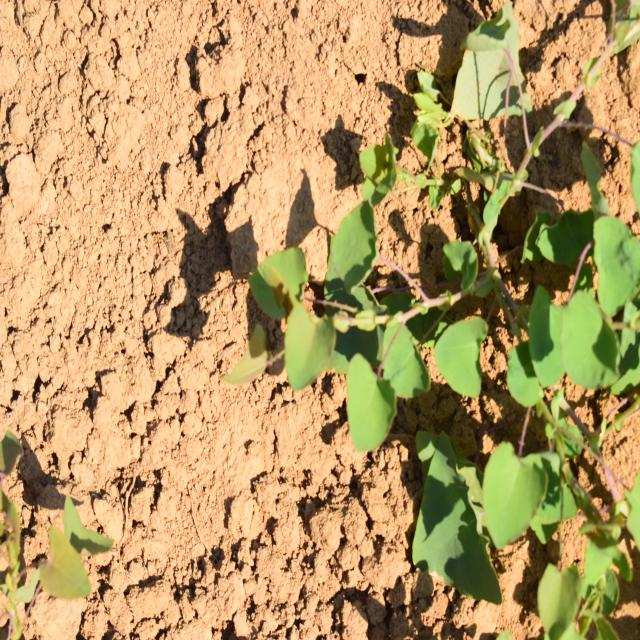Asiatic_Smartweed: (247, 207, 482, 443), (414, 434, 596, 633), (533, 200, 640, 420)
